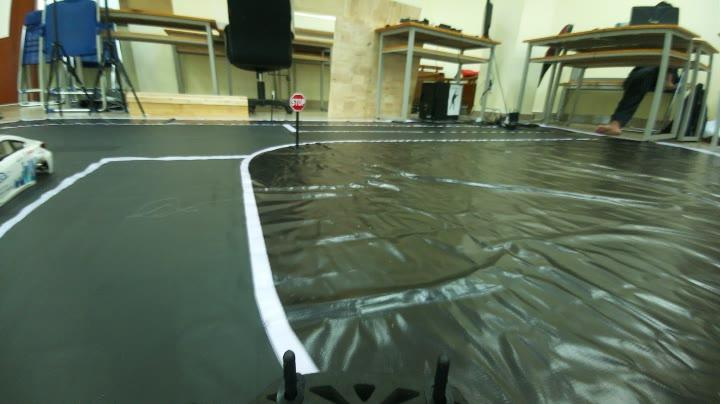stop: (286, 86, 312, 115)
